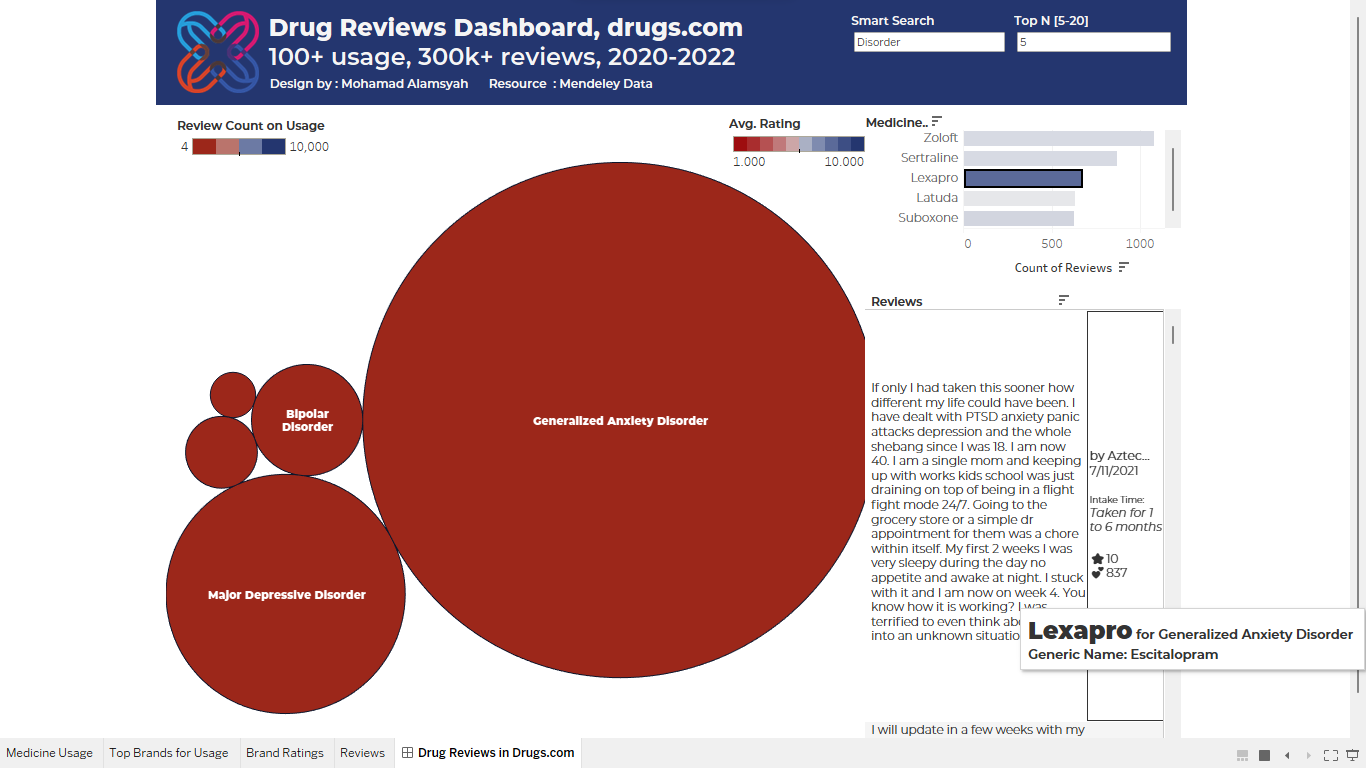

Layout of this report page (visuals, bound fields, positions):
{"tool":"tableau","page":{"name":"drug-reviews-bigquery","canvas":[1000,800],"ordinal":0},"visuals":[{"type":"text","box":[92,10,523,68]},{"type":"image","param":"C:/Users/acer/Downloads/PROJECTS-2.0/DrugReviews/drugscom-logomark-112x112.png","box":[11,14,78,83]},{"type":"parameter","param":"[Parameters].[Parameter 2]","box":[807,14,159,67]},{"type":"parameter","param":"[Parameters].[Parameter 1]","box":[619,15,151,44]},{"type":"text","box":[620,56,180,45]},{"type":"text","box":[819,62,134,33]},{"type":"text","box":[93,68,440,32]},{"type":"worksheet","title":"Top Brands by Usage","mark":"Automatic","rows":["MedicineBrandName"],"cols":["Reviews"],"box":[605,100,388,215]},{"type":"legend","title":"Medicine Usage","param":"[federated.18pzkps1q4mk2b1e8keax0oiqh2z].[cnt:MedicineUsedFor:qk]","box":[18,115,168,76]},{"type":"legend","title":"Top Brands by Usage","param":"[federated.18pzkps1q4mk2b1e8keax0oiqh2z].[avg:Rating:qk]","box":[357,117,233,76]},{"type":"worksheet","title":"Medicine Usage","mark":"Circle","box":[10,176,591,608]},{"type":"worksheet","title":"Top Generics by Usage","mark":"Automatic","rows":["MedicineGenericName"],"cols":["Reviews"],"box":[606,305,387,214]},{"type":"text","box":[608,525,384,47]},{"type":"worksheet","title":"Reviews","mark":"Automatic","rows":["Reviews"],"box":[605,556,388,234]}]}

Visuals, with their boxes on the page's 1000x800 design canvas (x1, y1, x2, y2). These are canvas units, not pixel positions in the 1366x768 screenshot, which may show the page scaled, cropped or inside an application window:
text: box(92, 10, 615, 78)
image: box(11, 14, 89, 97)
parameter: box(807, 14, 966, 81)
parameter: box(619, 15, 770, 59)
text: box(620, 56, 800, 101)
text: box(819, 62, 953, 95)
text: box(93, 68, 533, 100)
"Top Brands by Usage" worksheet: box(605, 100, 993, 315)
"Medicine Usage" legend: box(18, 115, 186, 191)
"Top Brands by Usage" legend: box(357, 117, 590, 193)
"Medicine Usage" worksheet (Circle marks): box(10, 176, 601, 784)
"Top Generics by Usage" worksheet: box(606, 305, 993, 519)
text: box(608, 525, 992, 572)
"Reviews" worksheet: box(605, 556, 993, 790)
